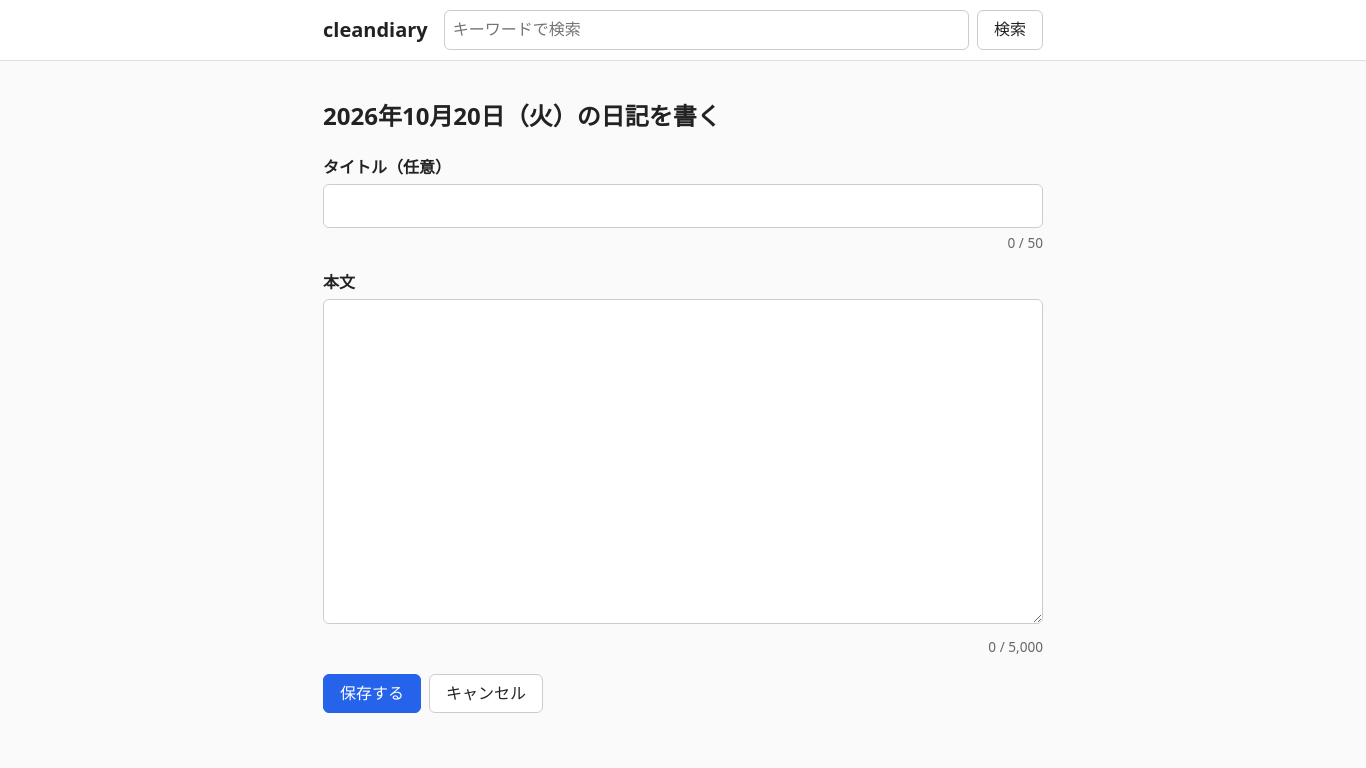
Test: 日記編集画面 › 新しく書く › 保存すると記録され、表示画面へ移る
Type "旅行" into the field labelled "タイトル（任意）" at [683, 206], box x1=323 y1=184 x2=1043 y2=228
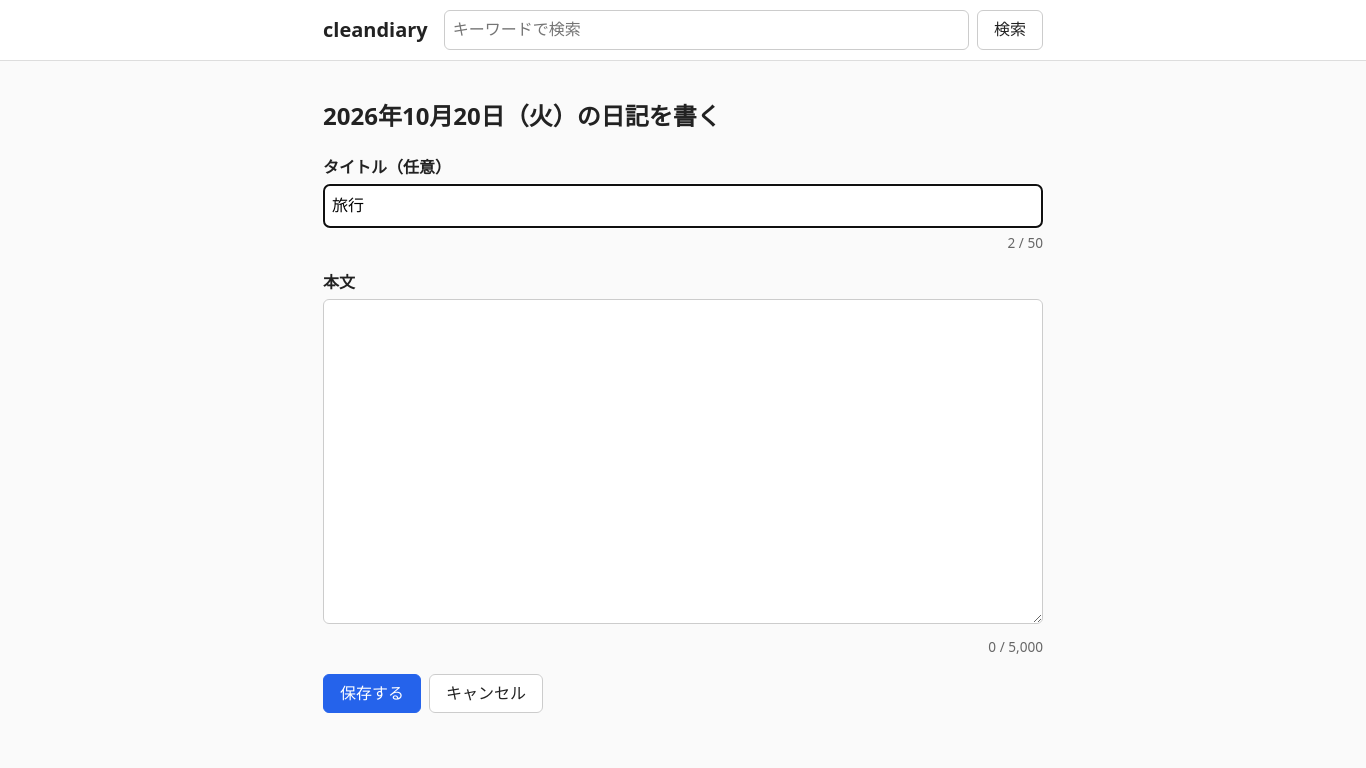
Type "京都に行く予定" into the text box labelled "本文" at [683, 462], box x1=323 y1=299 x2=1043 y2=624
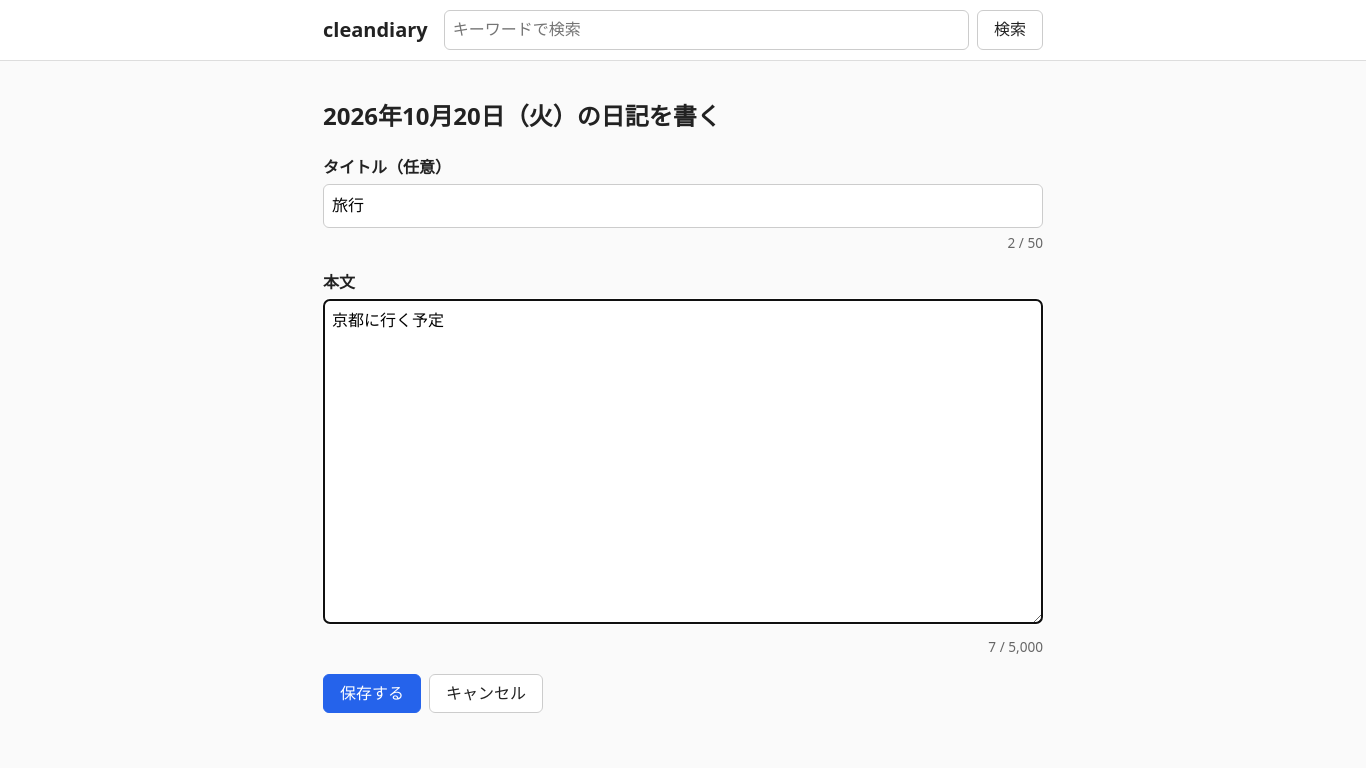
Click the button "保存する" at [372, 694], box x1=323 y1=674 x2=421 y2=713
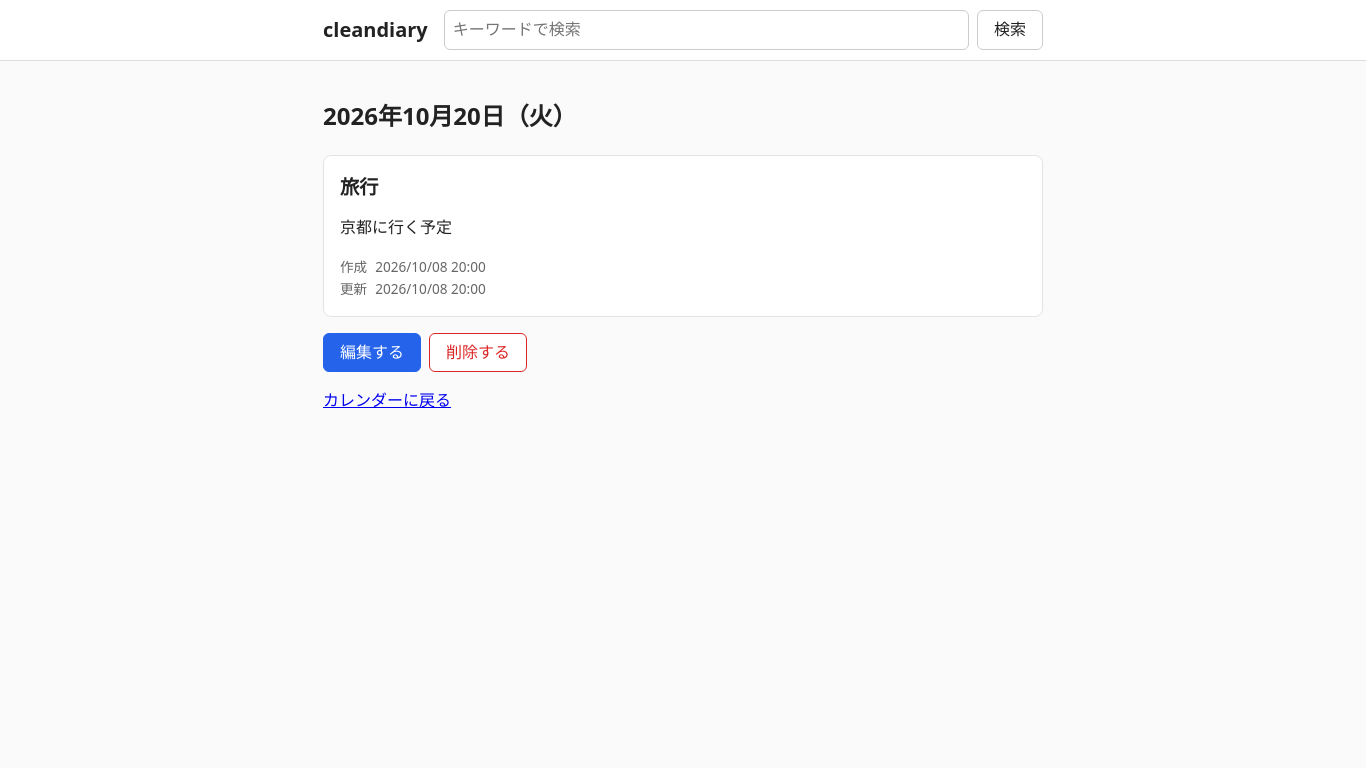
Now the heading "旅行" is shown, box x1=340 y1=173 x2=378 y2=200
